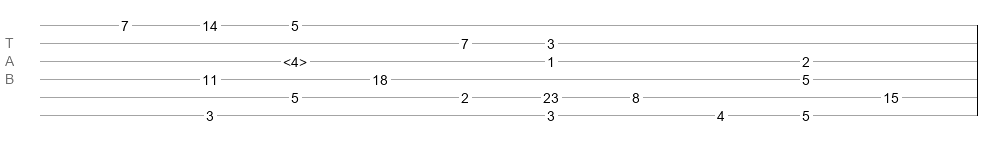1: (547, 54, 555, 64)
11: (202, 72, 218, 82)
14: (202, 18, 218, 28)
15: (883, 90, 899, 100)
18: (372, 72, 388, 82)
2: (461, 90, 469, 100), (802, 54, 810, 64)
23: (543, 90, 559, 100)
3: (206, 108, 214, 118), (547, 36, 555, 46), (547, 108, 555, 118)
4: (717, 108, 725, 118)
5: (291, 90, 299, 100), (291, 18, 299, 28), (802, 72, 810, 82), (802, 108, 810, 118)
7: (121, 18, 129, 28), (461, 36, 469, 46)
8: (632, 90, 640, 100)
harmonic: (283, 54, 307, 64)
